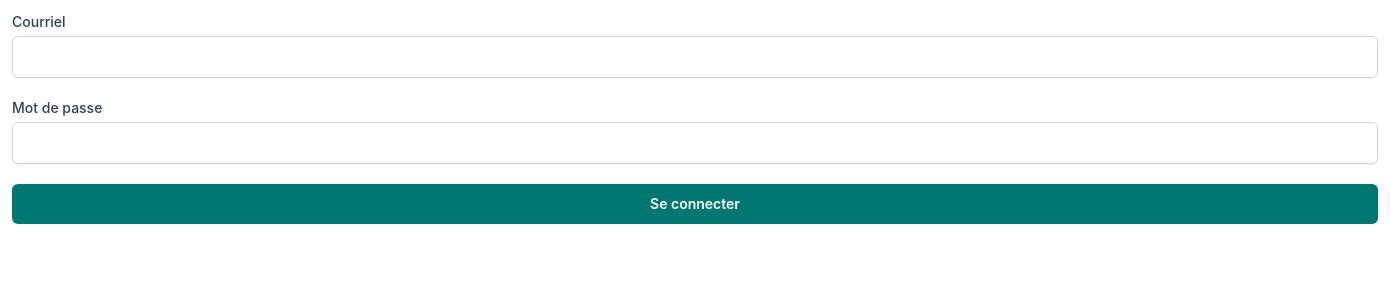
Test: LoginForm › shows a neutral message on an unexpected server error
Type "infirmiere@cliniflow.test" into the field labelled "Courriel" at coordinates (695, 57), box [12,36,1378,78]
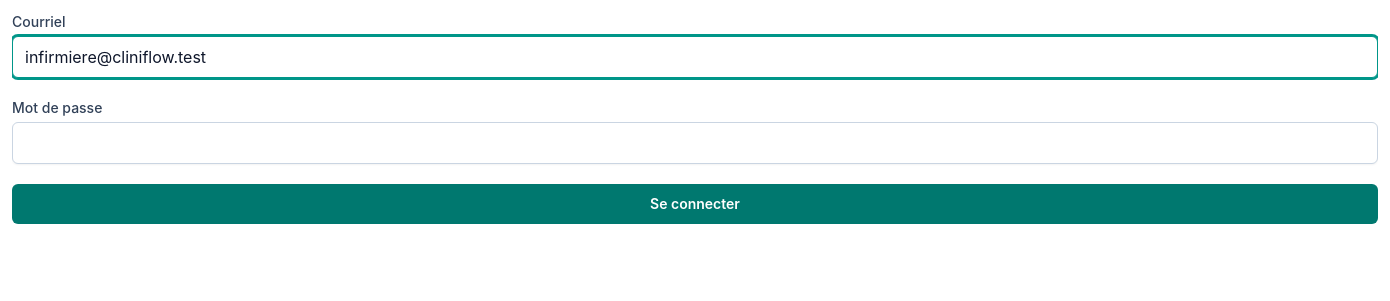
Type "password" into the password field labelled "Mot de passe" at coordinates (695, 143), box [12,122,1378,164]
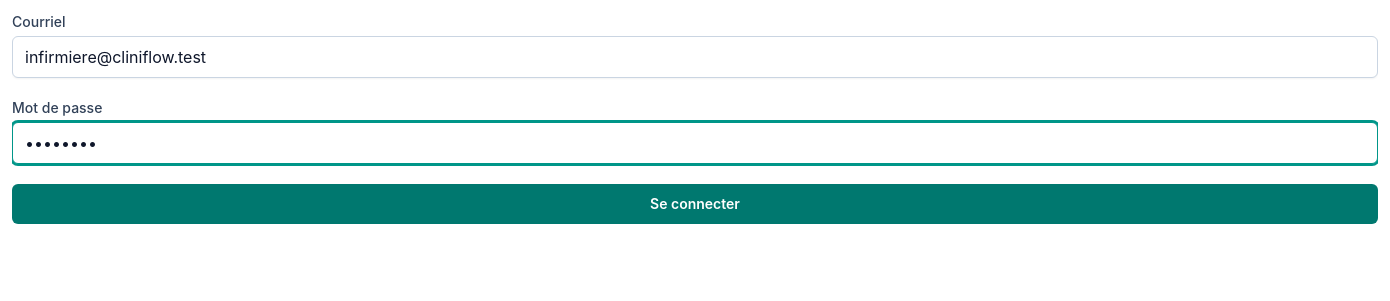
Click the button "Se connecter" at coordinates (695, 204), box [12,184,1378,224]
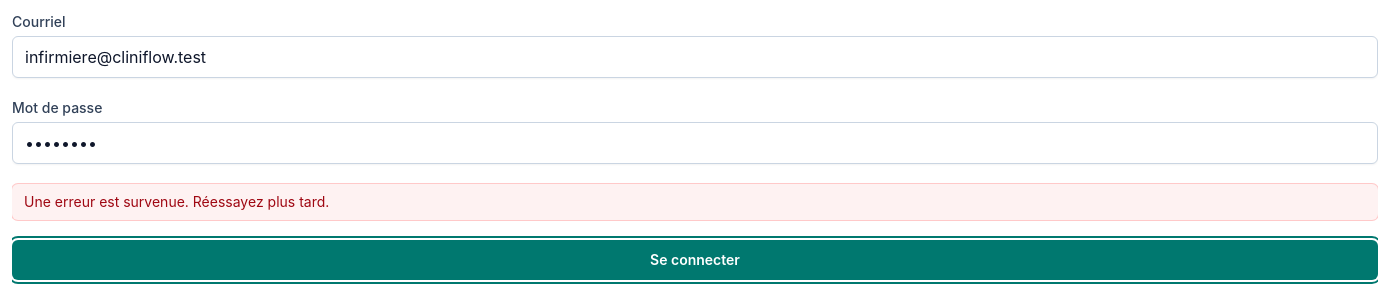
Expected: the message reads "Une erreur est survenue. Réessayez plus tard.", [24,193,329,210]
